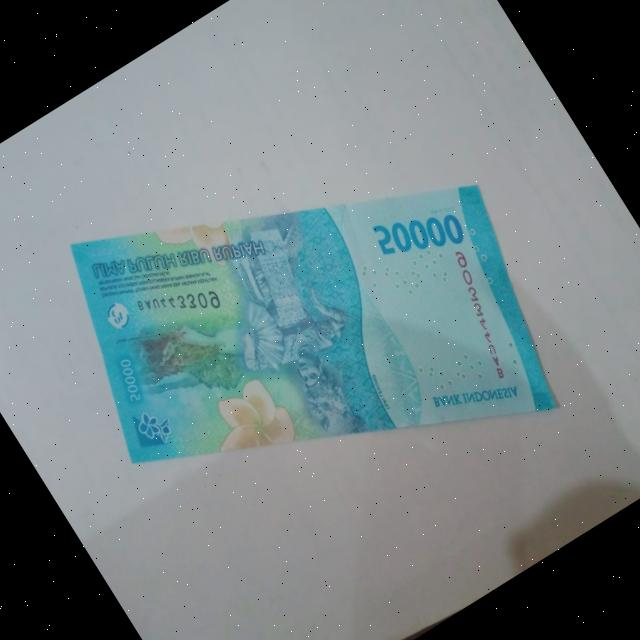50K: (9, 42, 608, 628)
